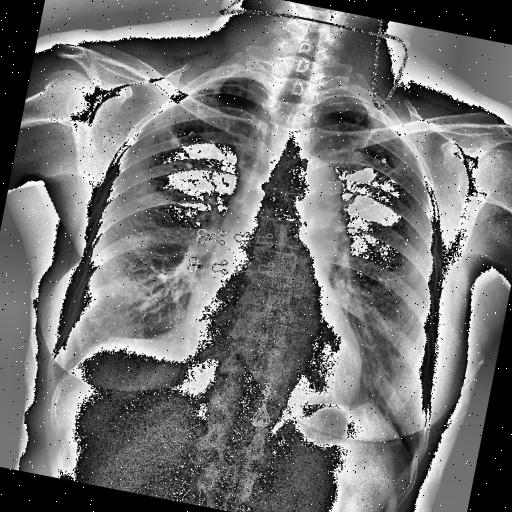0- Aortic enlargement: (273, 152, 349, 242), (269, 148, 351, 230), (272, 154, 349, 232)
11- Pleural thickening: (182, 66, 270, 114), (320, 94, 382, 128), (199, 68, 248, 102), (98, 328, 119, 348), (362, 398, 378, 412)
13- Pulmonary fibrosis: (340, 116, 422, 194), (343, 114, 409, 185), (162, 98, 216, 181), (156, 110, 186, 146), (362, 114, 384, 152)
3- Cardiomegaly: (174, 286, 373, 402), (173, 307, 371, 406)
8- Nodule-Mass: (168, 132, 180, 144), (184, 162, 193, 170), (186, 162, 194, 170)
